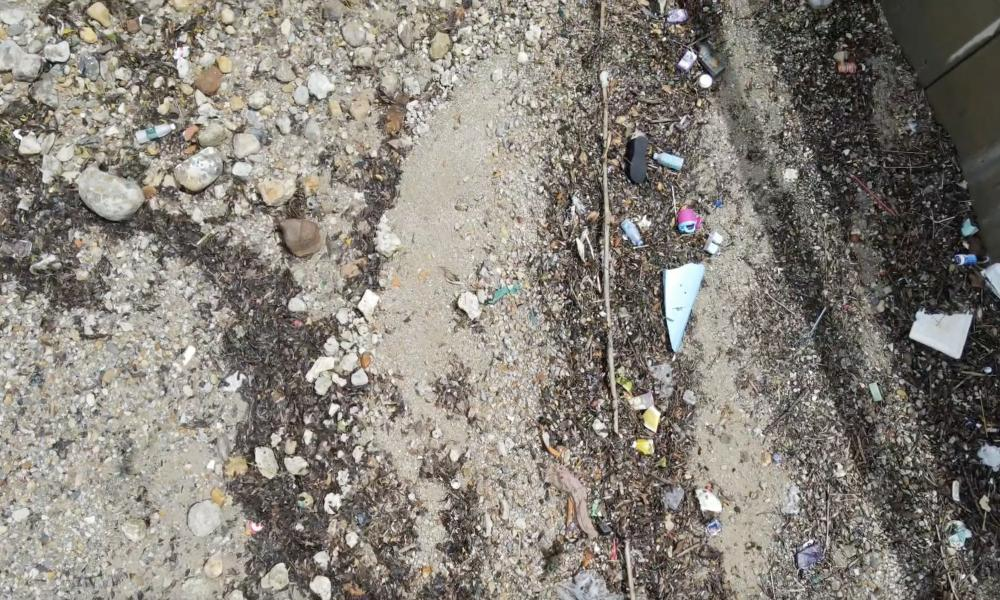plastic bottle: (650, 146, 686, 172), (135, 121, 176, 143), (620, 218, 643, 248)
